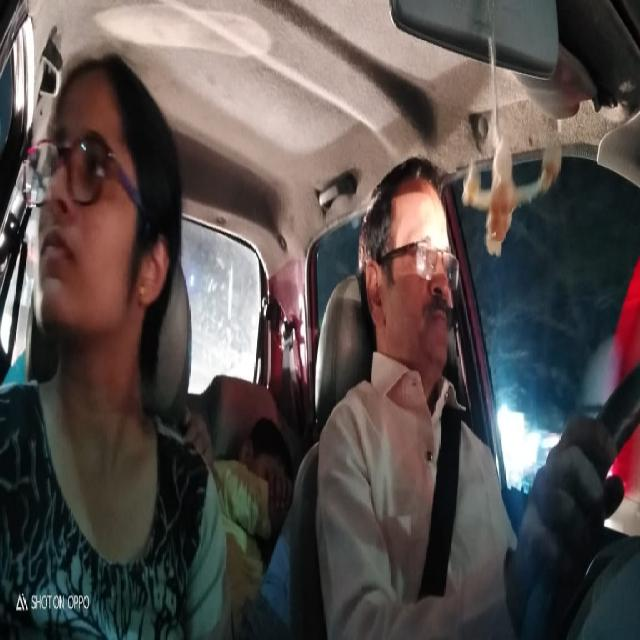person: (40, 90, 166, 347), (361, 172, 456, 368), (244, 420, 294, 516)
